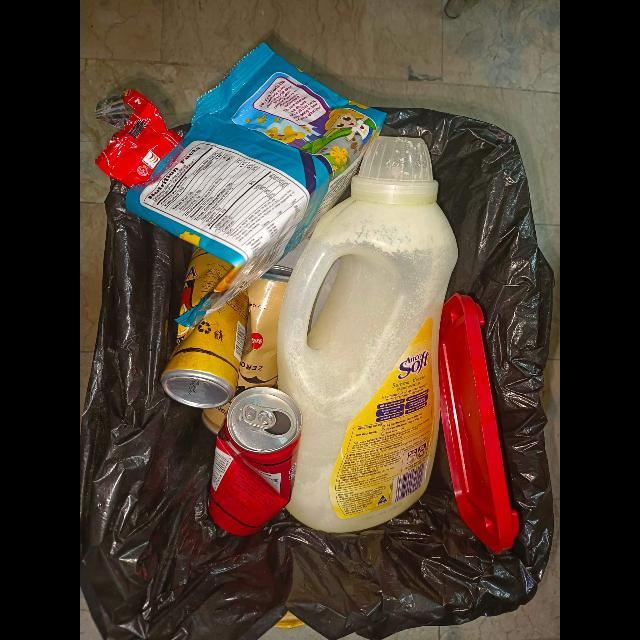metal: (202, 265, 293, 435), (209, 387, 302, 537), (160, 290, 249, 409), (180, 248, 235, 317)
plastic: (277, 137, 459, 533)
wrapper: (125, 43, 388, 328), (94, 90, 183, 189)
